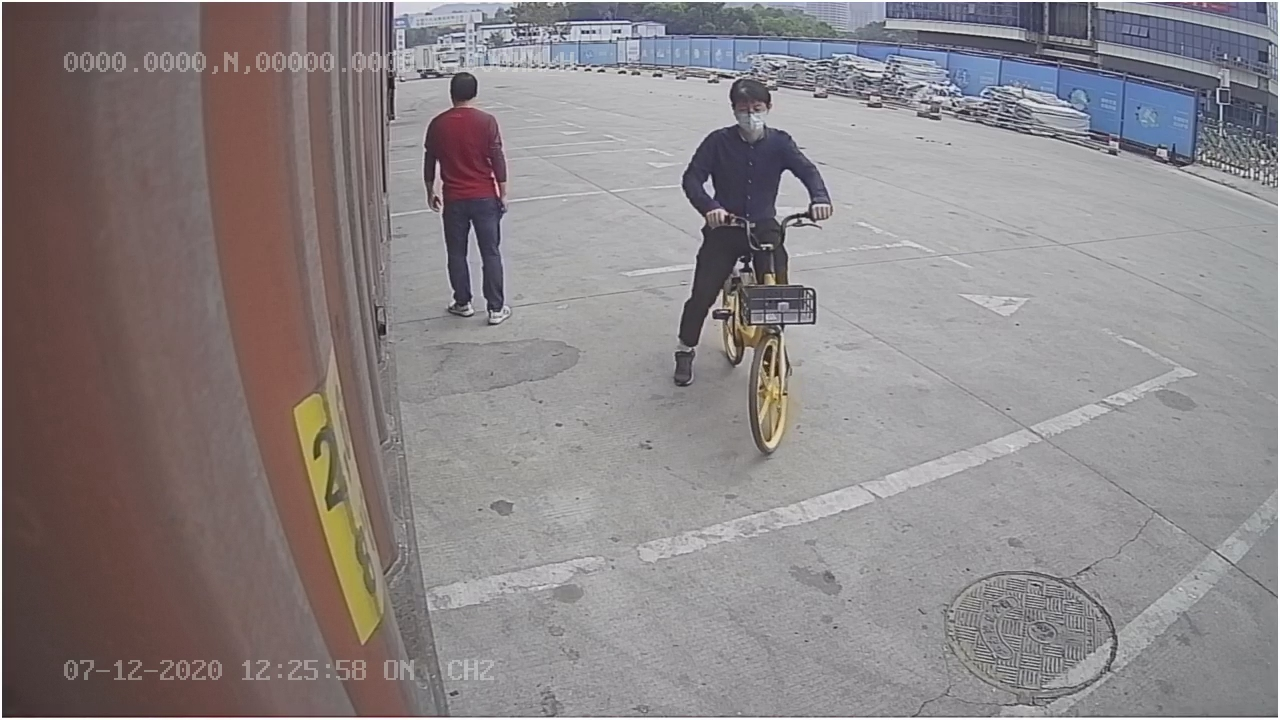person: (422, 69, 518, 328)
